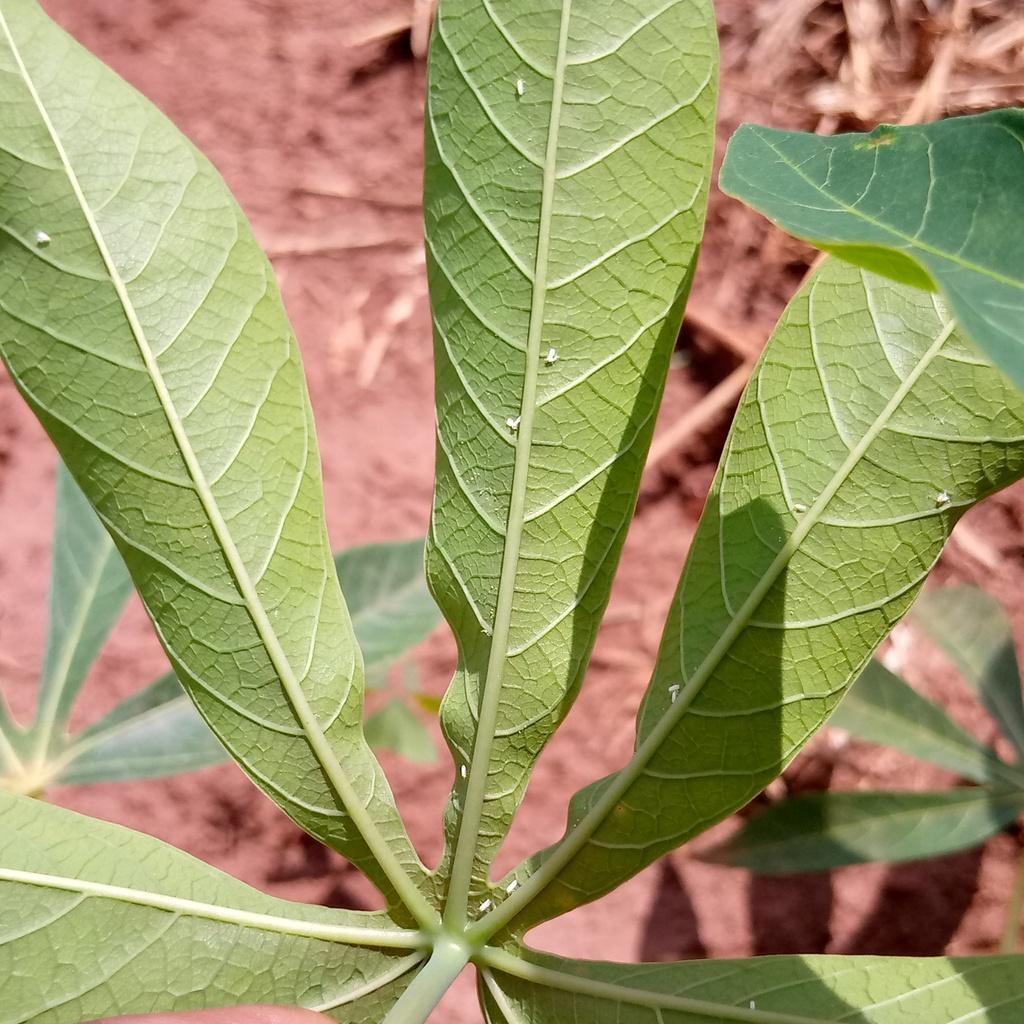adult: (544, 348, 559, 364), (506, 415, 521, 430), (35, 230, 51, 244), (478, 899, 491, 912), (506, 879, 518, 893), (516, 78, 525, 96), (936, 493, 949, 503), (460, 763, 467, 780), (794, 503, 807, 511), (668, 684, 680, 692), (671, 690, 677, 703), (749, 1000, 755, 1009)
